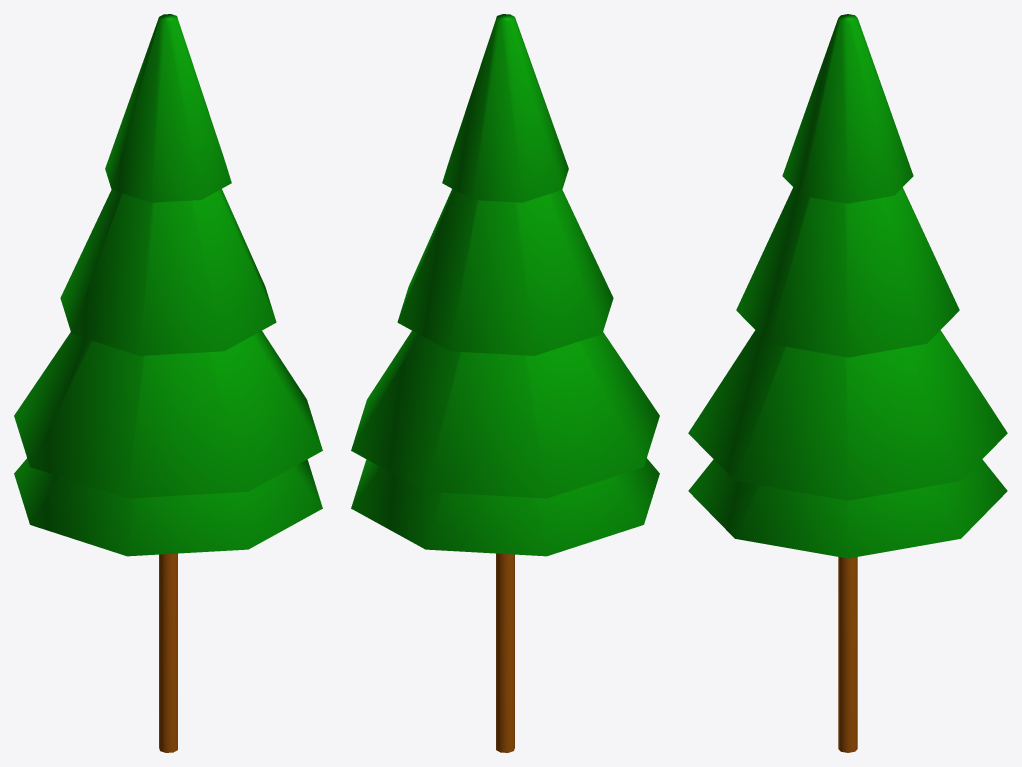
The model's file is Tree2.fbx.
3 views of the same model, side by side, from view 1: azimuth 30°, elevation 25°; view 2: azimuth 150°, elevation 25°; view 3: azimuth 270°, elevation 25° (orthographic).
Parts seen in each view (by area): view 1: Tree; view 2: Tree; view 3: Tree.
Part boxes in pixels (<box>): Tree: <box>14,14,322,752</box>; Tree: <box>351,14,659,752</box>; Tree: <box>688,14,1007,752</box>.
Bounding box in the file's own units: 325 × 819 × 325.
